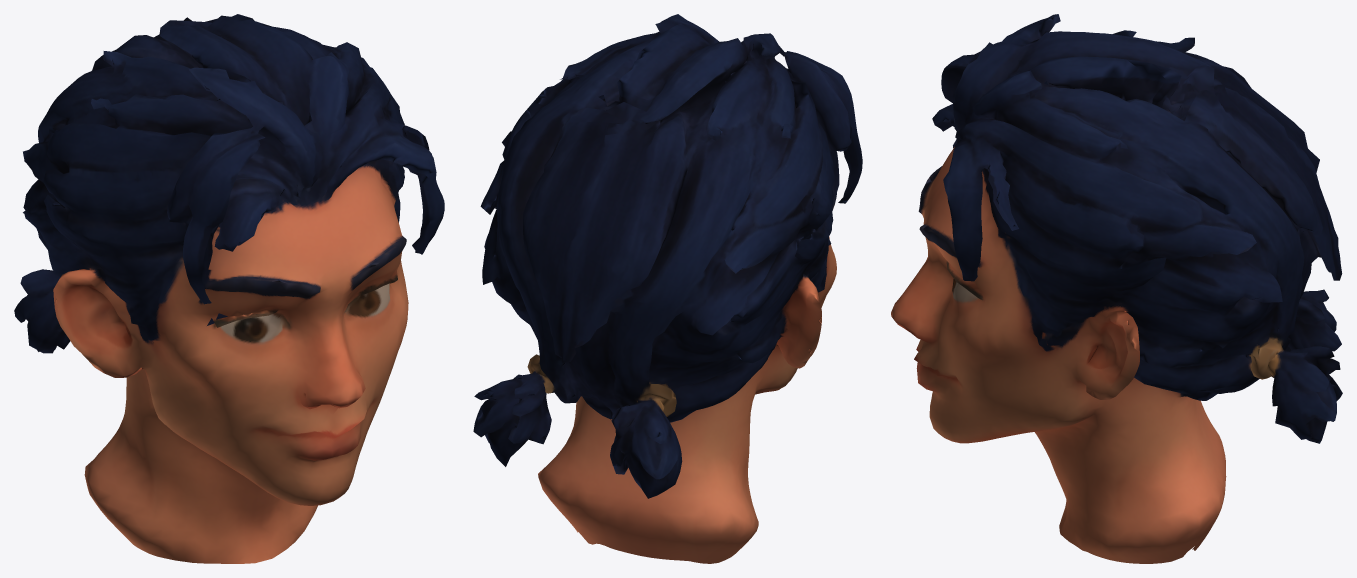
File: head-quads.glb
3 renders of one model, left to right at view 1: azimuth 30°, elevation 25°; view 2: azimuth 150°, elevation 25°; view 3: azimuth 270°, elevation 25°, orthographic. The views are drawn at different scales.
Bounding box in the file's own units: 0.6883 × 0.9718 × 0.8212.
Materials: 1 (1 with a texture image).
